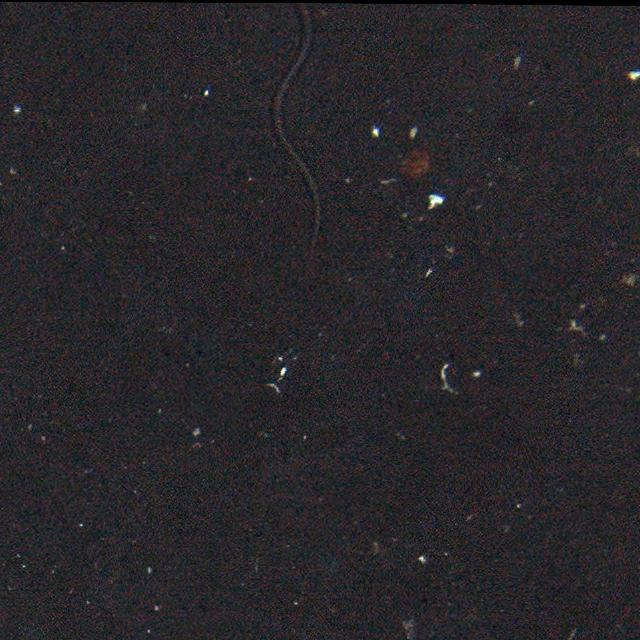eel: (266, 6, 336, 264)
